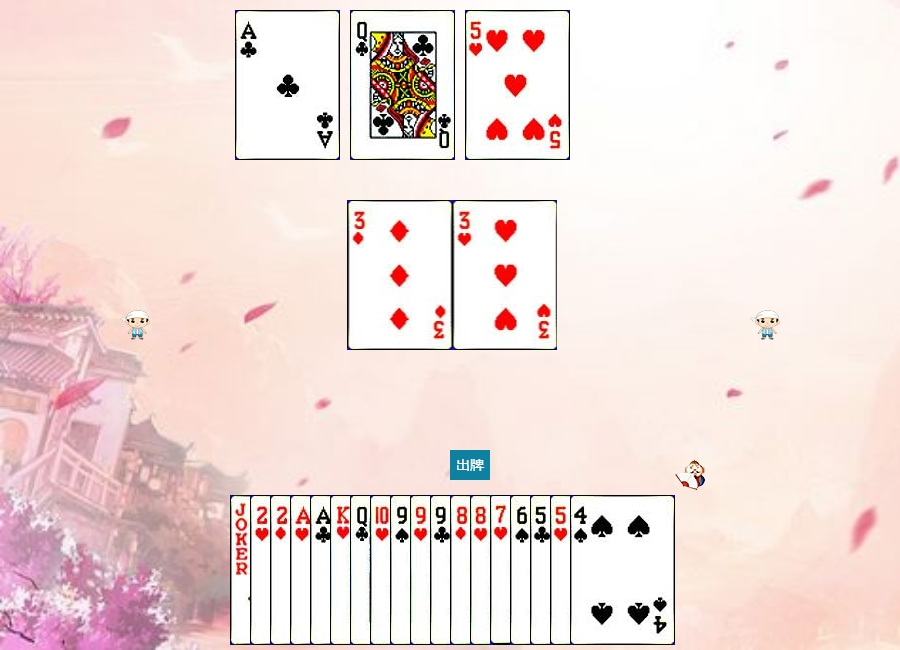10~3: (370, 495, 475, 645)
12~2: (350, 10, 455, 160), (350, 495, 455, 645)
13~3: (330, 495, 435, 645)
14~2: (235, 10, 340, 160), (310, 495, 415, 645)
14~3: (290, 495, 395, 645)
15~1: (270, 495, 375, 645)
15~3: (250, 495, 355, 645)
18~4: (230, 495, 335, 645)
3~1: (348, 200, 453, 350)
3~3: (453, 200, 558, 350)
4~4: (570, 495, 675, 645)
5~2: (530, 495, 635, 645)
5~3: (465, 10, 570, 160), (550, 495, 655, 645)
6~4: (510, 495, 615, 645)
7~3: (490, 495, 595, 645)
8~1: (450, 495, 555, 645)
8~3: (470, 495, 575, 645)
9~2: (430, 495, 535, 645)
9~3: (410, 495, 515, 645)
9~4: (390, 495, 495, 645)
